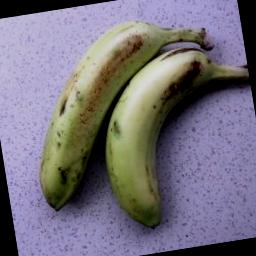Banana Ripe: (17, 3, 256, 256)
